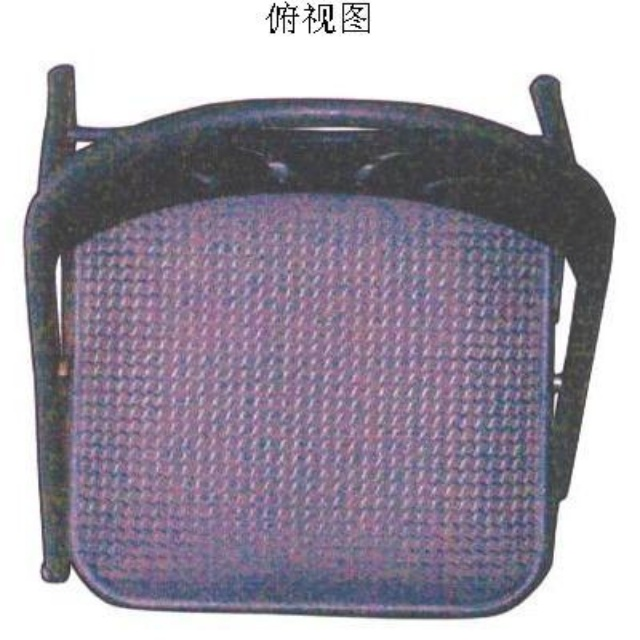obstacle: (24, 65, 613, 616)
